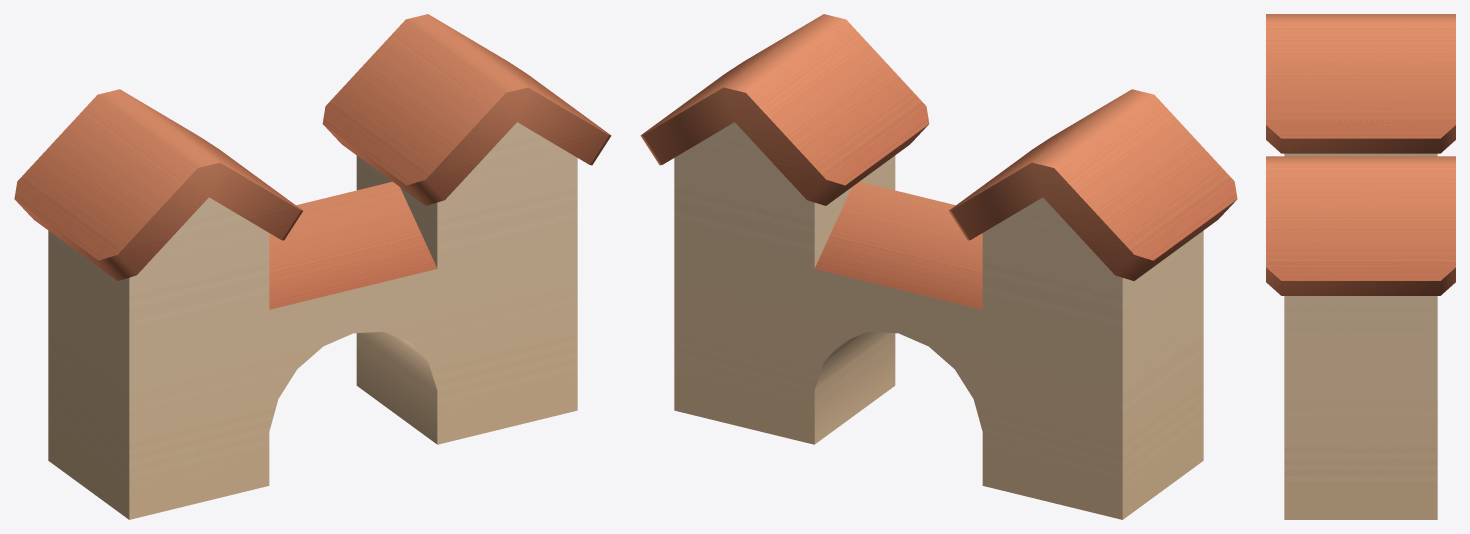
Rendered from structure-gate-building.glb.
The picture shows the model from 3 angles, left to right: view 1: azimuth 30°, elevation 25°; view 2: azimuth 150°, elevation 25°; view 3: azimuth 270°, elevation 25°; orthographic projection. The views are drawn at different scales.
Visible parts, largest first — view 1: structure-gate-building; view 2: structure-gate-building; view 3: structure-gate-building.
Boxes of the visible parts, box(x1,y1,x2,y2) form: structure-gate-building: box(14, 14, 611, 519); structure-gate-building: box(640, 14, 1237, 519); structure-gate-building: box(1266, 14, 1455, 519).
Bounding box in the file's own units: 0.9155 × 0.5877 × 0.31.
Materials: 1 (1 with a texture image).
